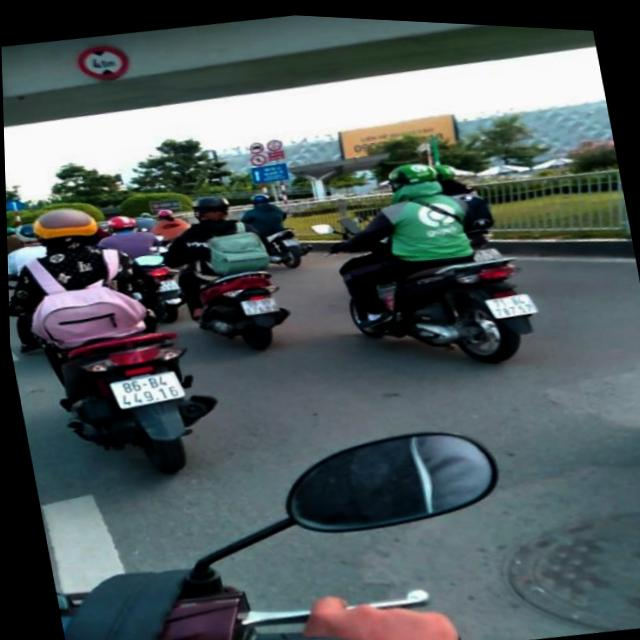Han che chieu cao: (74, 40, 130, 83)
